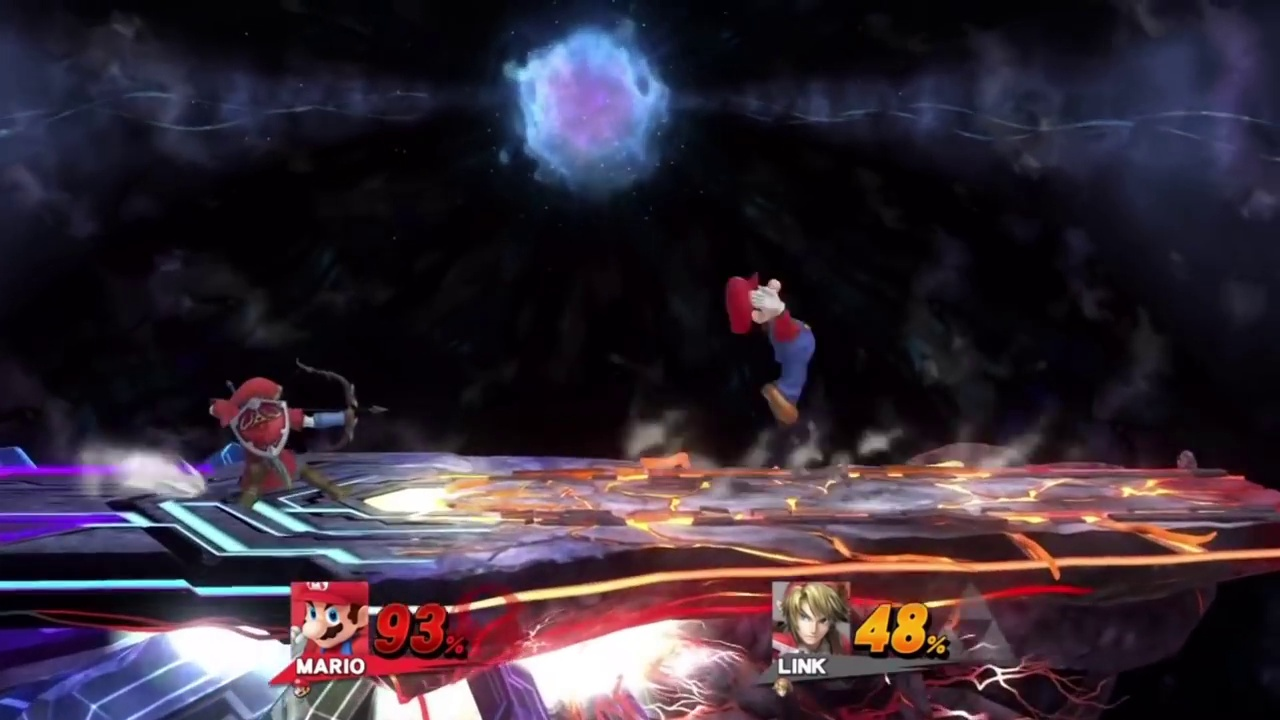Mario: (720, 274, 814, 425)
